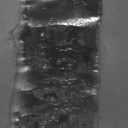slag inclusion: (6, 0, 104, 128)
